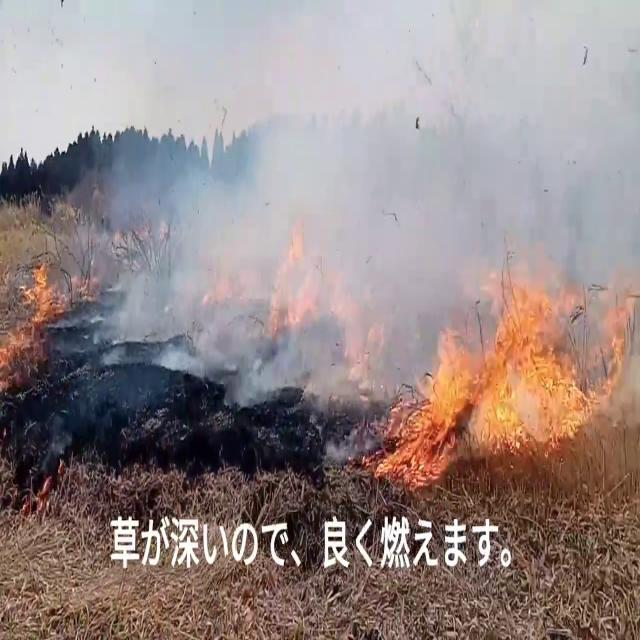Fire: (378, 252, 640, 482), (0, 256, 64, 406)
Smoke: (67, 2, 638, 429)
